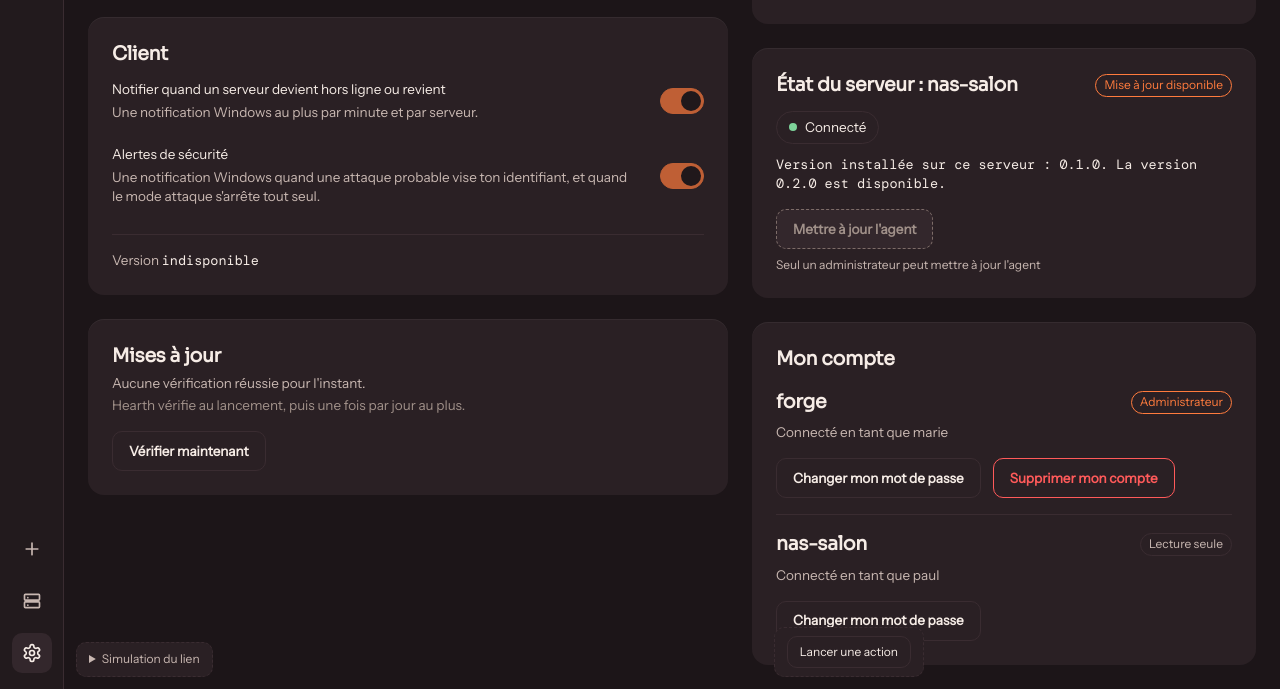
Test: Case « Garder ce poste reconnu » › says a PC without a key cannot change the password from here, whatever the attack mode
(page scrolled)
Click the button "Changer mon mot de passe" below "Connecté en tant que marie".
click(878, 478)  # box [776,458,981,498]
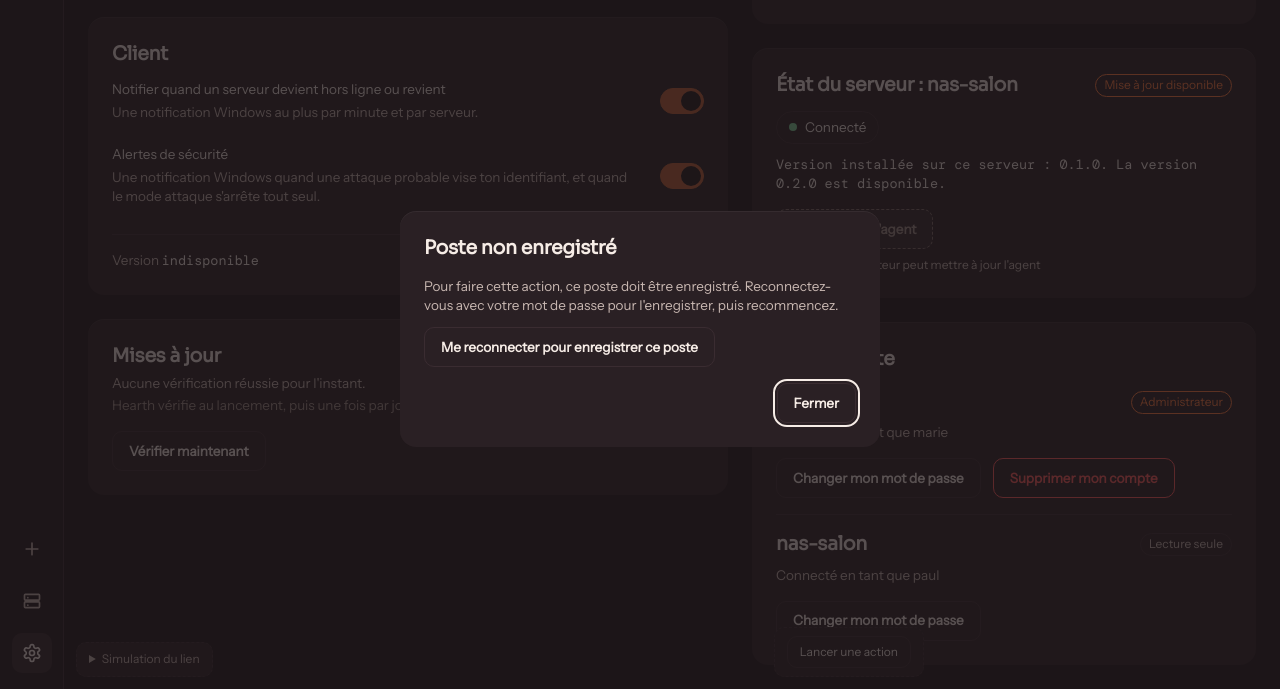
Result: the dialog shows "Me reconnecter pour enregistrer ce poste" at [424,327,715,367]
